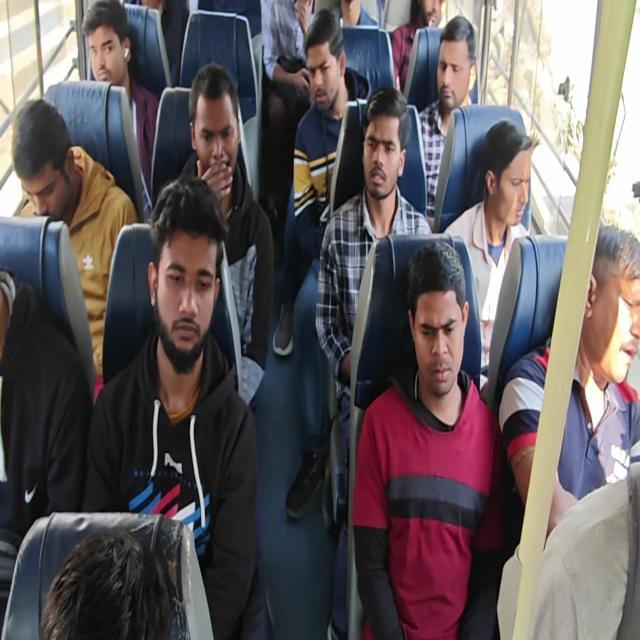person: (1, 1, 638, 638), (82, 175, 272, 638), (352, 240, 505, 638), (314, 84, 433, 472), (498, 222, 639, 541), (11, 98, 138, 398), (174, 63, 275, 408), (272, 9, 369, 356), (0, 266, 93, 536), (443, 118, 534, 390), (82, 0, 160, 215), (39, 528, 189, 638), (417, 15, 478, 226), (261, 0, 314, 125), (391, 0, 446, 94), (138, 0, 189, 88), (313, 0, 379, 28)
